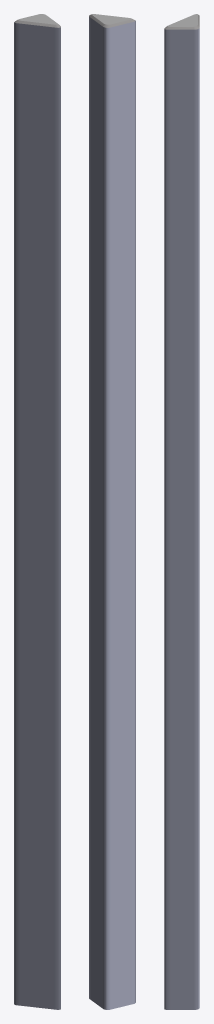
The model's file is gElement_Triangle.fbx.
3 views of the same model, side by side, from view 1: azimuth 30°, elevation 25°; view 2: azimuth 210°, elevation 25°; view 3: azimuth 270°, elevation 25° (orthographic).
Parts seen in each view (by area): view 1: gElement_Triangle; view 2: gElement_Triangle; view 3: gElement_Triangle.
Boxes of the visible parts, left/top/right/bottom form: gElement_Triangle: left=14, top=14, right=60, bottom=1009; gElement_Triangle: left=89, top=14, right=135, bottom=1009; gElement_Triangle: left=164, top=14, right=199, bottom=1009.
Size of the model in its own units: 0.8985 by 27.34 by 0.8985.
Materials: 1 (1 with a texture image).
